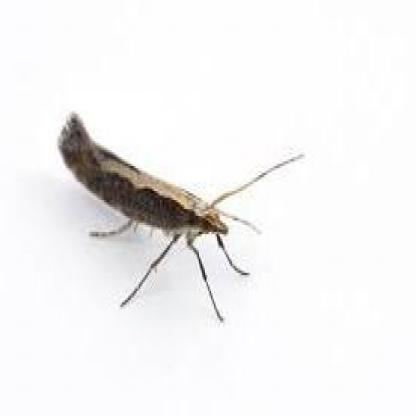plutella: (59, 111, 308, 330)
